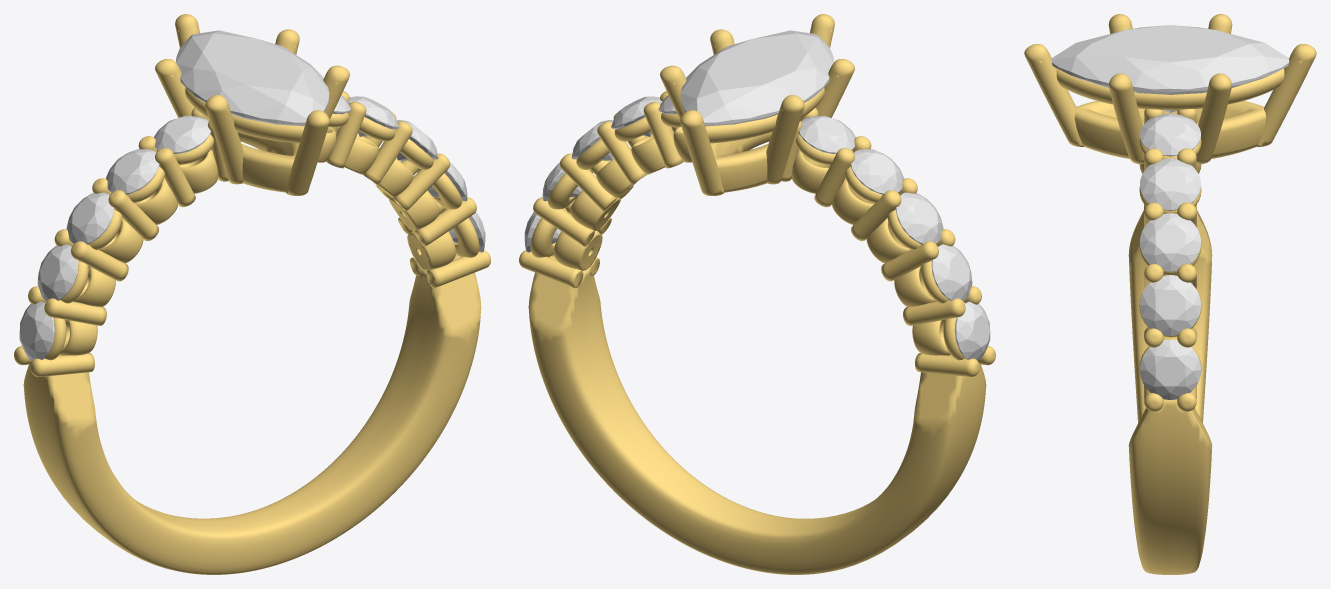
The model's file is diamond-marquise-yellowgold-6prong-straighttaperedband-11stone.glb.
The picture shows the model from 3 angles, left to right: view 1: azimuth 30°, elevation 25°; view 2: azimuth 150°, elevation 25°; view 3: azimuth 270°, elevation 25°; orthographic projection.
Visible parts, largest first — view 1: metal.001, stone.001, dia.014, dia.015, dia.013, dia.001, dia.016, dia.020; view 2: metal.001, stone.001, dia.014, dia.015, dia.013, dia.001, dia.016, dia.020; view 3: metal.001, stone.001, dia.018, dia.017, dia.019, dia.020, dia.021.
Part boxes in pixels (x1=…): metal.001: x1=14, y1=14, x2=490, y2=574; stone.001: x1=176, y1=30, x2=329, y2=126; dia.014: x1=66, y1=192, x2=114, y2=244; dia.015: x1=106, y1=149, x2=159, y2=194; dia.013: x1=37, y1=244, x2=78, y2=300; dia.001: x1=19, y1=301, x2=55, y2=360; dia.016: x1=154, y1=115, x2=211, y2=153; dia.020: x1=347, y1=96, x2=398, y2=136; metal.001: x1=519, y1=14, x2=995, y2=574; stone.001: x1=680, y1=30, x2=833, y2=126; dia.014: x1=895, y1=192, x2=943, y2=244; dia.015: x1=850, y1=149, x2=903, y2=194; dia.013: x1=931, y1=244, x2=972, y2=300; dia.001: x1=954, y1=301, x2=990, y2=360; dia.016: x1=798, y1=115, x2=855, y2=154; dia.020: x1=611, y1=96, x2=662, y2=136; metal.001: x1=1024, y1=14, x2=1316, y2=574; stone.001: x1=1051, y1=25, x2=1289, y2=112; dia.018: x1=1140, y1=275, x2=1200, y2=335; dia.017: x1=1140, y1=339, x2=1200, y2=399; dia.019: x1=1140, y1=213, x2=1200, y2=271; dia.020: x1=1140, y1=158, x2=1200, y2=210; dia.021: x1=1140, y1=113, x2=1200, y2=156.
Size of the model in its own units: 21.88 by 22.94 by 11.96.
